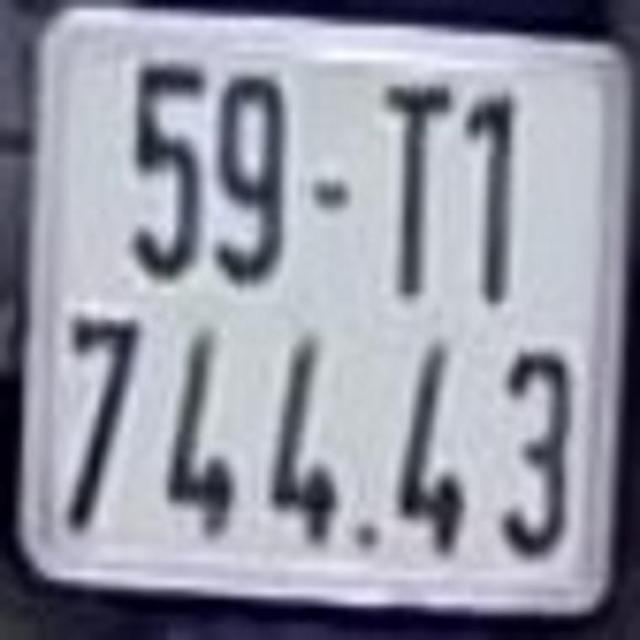1: (464, 89, 514, 305)
3: (506, 339, 564, 551)
4: (165, 322, 238, 536), (270, 336, 342, 544), (404, 332, 467, 550)
5: (130, 52, 202, 276)
7: (64, 308, 140, 534)
9: (217, 76, 288, 284)
T: (384, 80, 452, 290)
